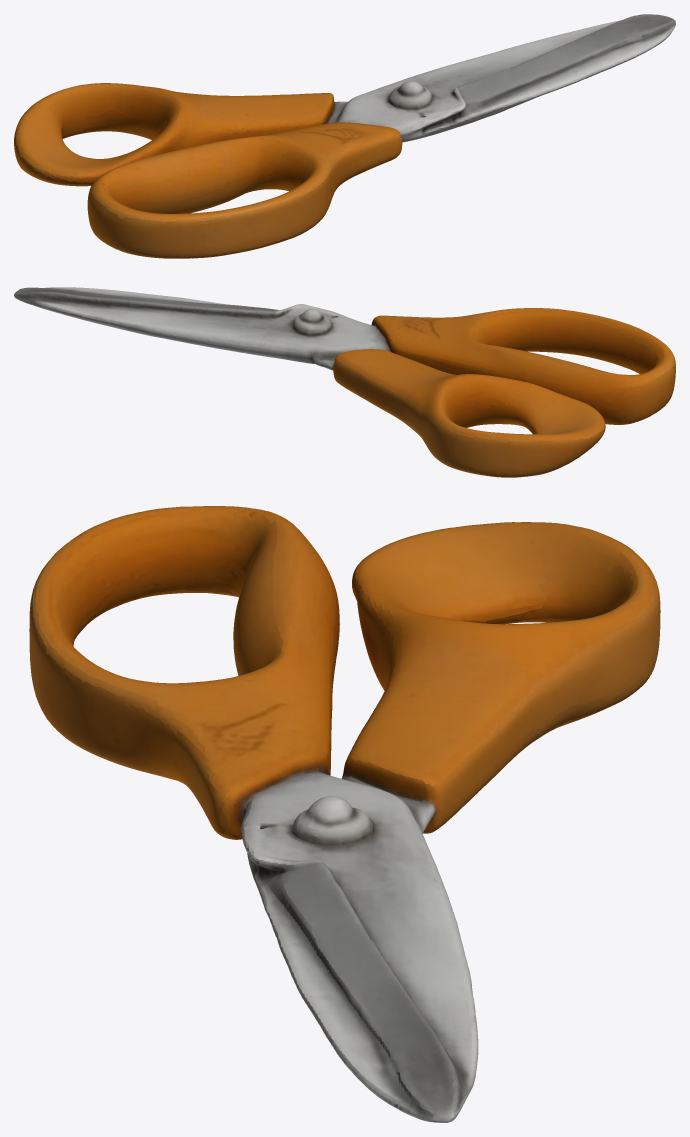
Rendered from whole.glb.
The picture shows the model from 3 angles, top to bottom: view 1: azimuth 30°, elevation 25°; view 2: azimuth 150°, elevation 25°; view 3: azimuth 270°, elevation 25°; orthographic projection. The views are drawn at different scales.
Visible parts, largest first — view 1: world; view 2: world; view 3: world.
Part boxes in pixels (left/top/right/bottom): world: left=14, top=14, right=675, bottom=258; world: left=14, top=287, right=675, bottom=477; world: left=29, top=506, right=660, bottom=1122.
Bounding box in the file's own units: 0.21 × 0.0192 × 0.0973.
1 material, 1 textured.
